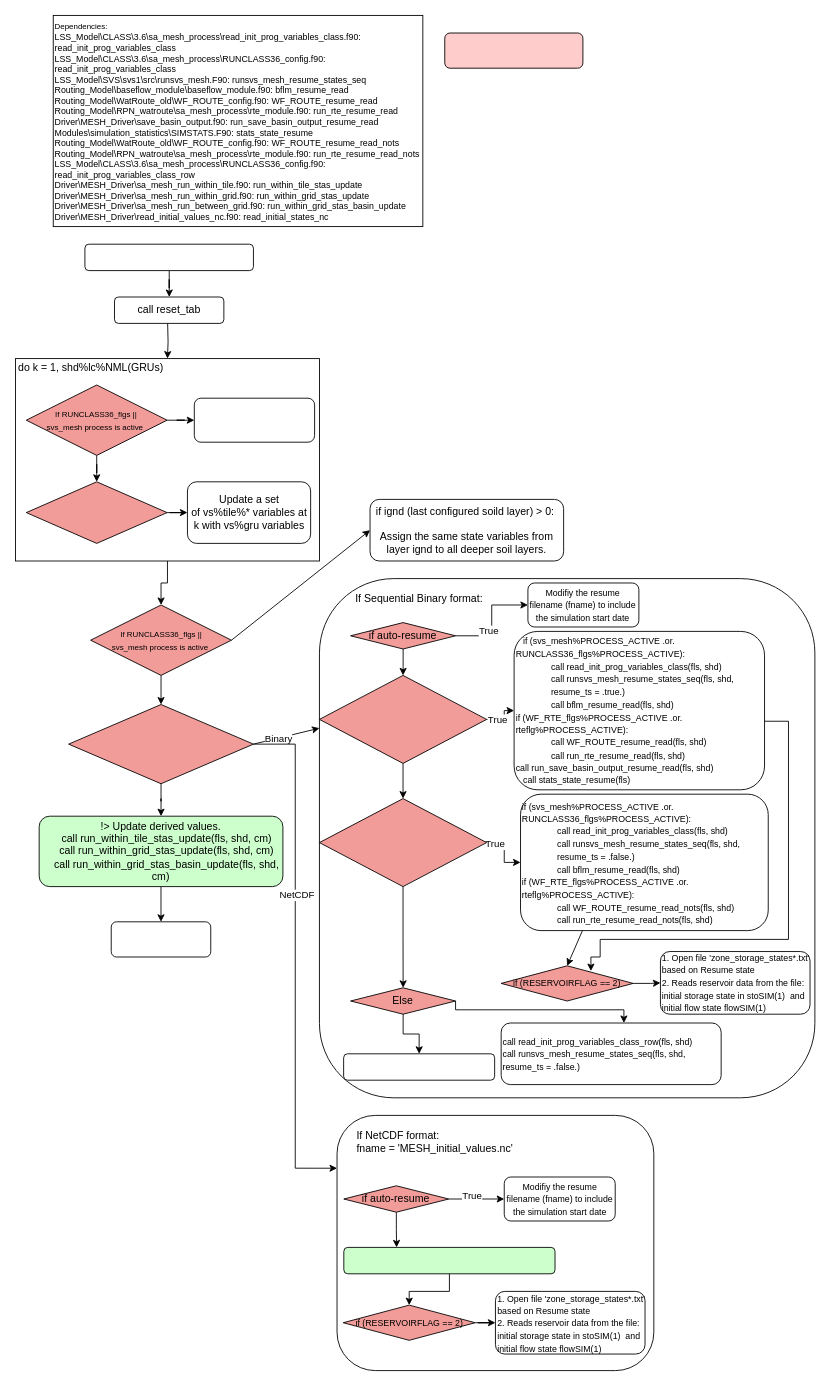
The diagram is 831 pixels wide and 1386 high, and some of its shapes have lost their labels. The centre of each missing label's shape, as x and y in pixels:
"call read_initial_states_nc(fls, shd, trim(fname), ierr)" belongs at (449,1260).
"Else If +CLASSPROG flags not in vs%flgs%resume%bin" belongs at (403,842).
"end subroutine" belongs at (160,939).
"if (.not. vs%flgs%resume%state == FLAG_OFF)" belongs at (160,744).
"if (RUNCLASS36_flgs% PROCESS_ACTIVE)" belongs at (96,512).
"If +STASONLY and +CLASSPROG flags not in vs%flgs%resume%bin" belongs at (403,719).
"Restore Filename After Auto-Resume" belongs at (419,1066).
"resumerun_read(fls, shd, cm)" belongs at (168,257).
"resumerun_read.f90" belongs at (513,50).
"Update set of vs%tile variables at k with vs%gru variables" belongs at (254,419).
